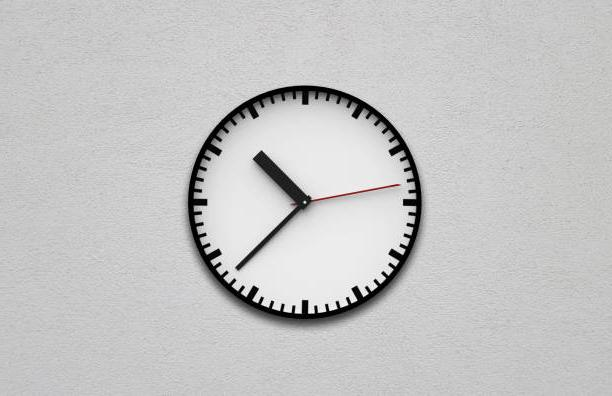clock: (177, 83, 432, 317)
